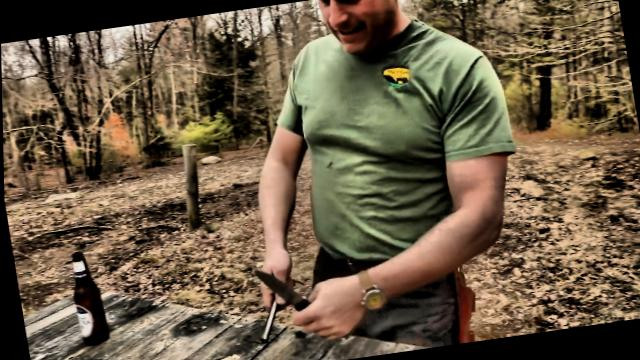knife: (244, 250, 352, 350)
